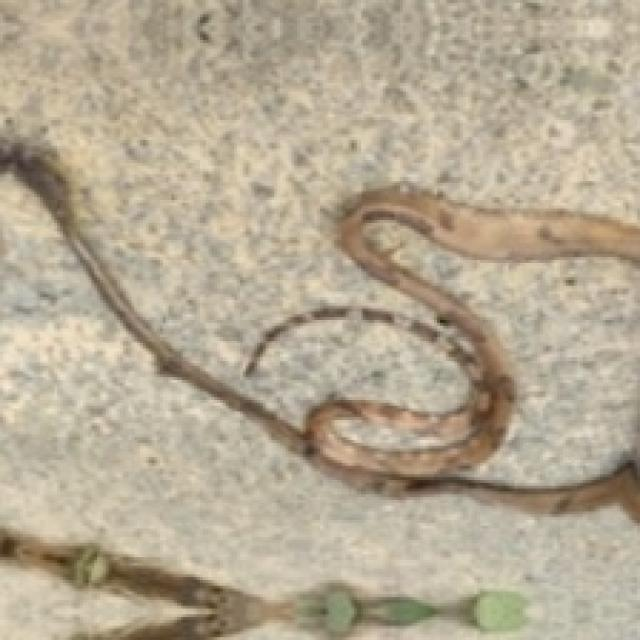dog-toothed cat snake: (0, 134, 637, 520)
